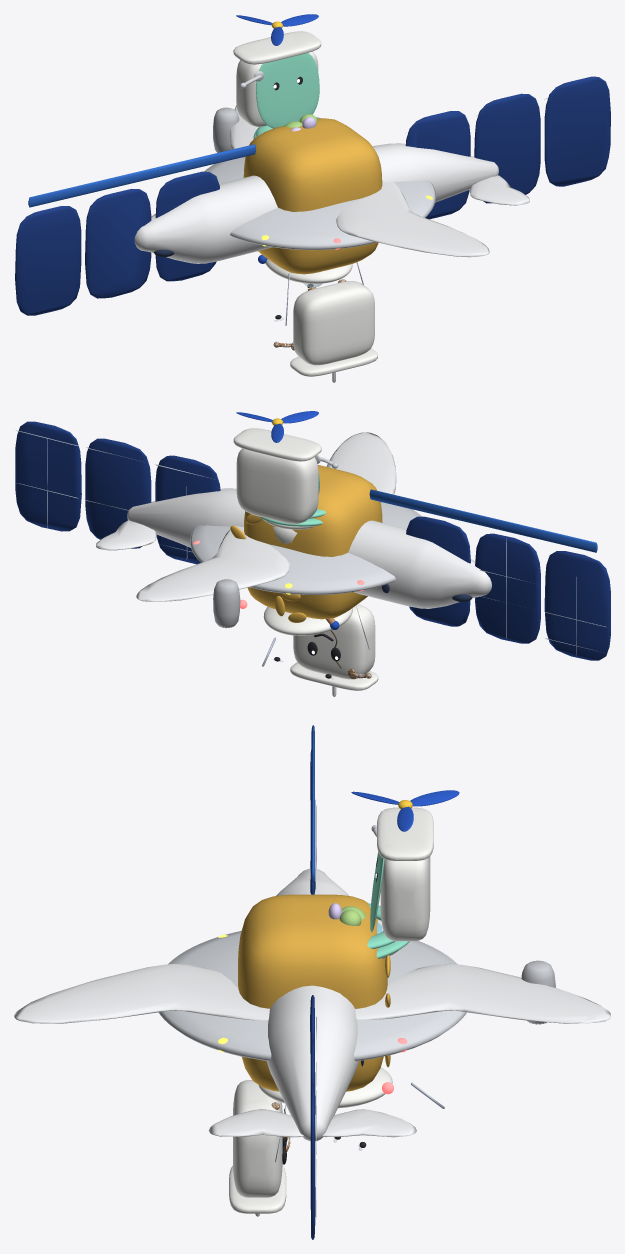
File: cohete_cosas.glb
3 views of the same model, one above another, from view 1: azimuth 30°, elevation 25°; view 2: azimuth 150°, elevation 25°; view 3: azimuth 270°, elevation 25° (orthographic). The views are drawn at different scales.
Parts seen in each view (by area): view 1: panel 12, fuselaje, cuerpo satélite, taza.007, platillo, tapa.008, taza.009, timón, motor 1; view 2: panel 12, fuselaje, cuerpo satélite, taza.009, taza.007, platillo, timón, motor 1, receptor; view 3: fuselaje, cuerpo satélite, platillo, taza.009, taza.007, panel 12, tapa.008, motor 1.
Part boxes in pixels (<box>): panel 12: <box>15,76,610,315</box>; fuselaje: <box>134,105,529,263</box>; cuerpo satélite: <box>243,118,382,274</box>; taza.007: <box>265,258,377,376</box>; platillo: <box>204,157,435,250</box>; tapa.008: <box>256,53,320,136</box>; taza.009: <box>233,31,321,126</box>; timón: <box>28,144,255,207</box>; motor 1: <box>213,107,239,152</box>; panel 12: <box>15,421,610,660</box>; fuselaje: <box>96,432,491,608</box>; cuerpo satélite: <box>230,465,382,622</box>; taza.009: <box>233,428,321,543</box>; taza.007: <box>263,604,378,690</box>; platillo: <box>190,502,421,594</box>; timón: <box>369,489,597,552</box>; motor 1: <box>213,579,240,628</box>; receptor: <box>16,430,606,666</box>; fuselaje: <box>14,868,610,1141</box>; cuerpo satélite: <box>238,894,390,1091</box>; platillo: <box>158,931,466,1061</box>; taza.009: <box>377,807,433,958</box>; taza.007: <box>229,1067,392,1213</box>; panel 12: <box>310,750,315,1239</box>; tapa.008: <box>367,852,394,948</box>; motor 1: <box>521,960,555,1024</box>.
Bounding box in the file's own units: 3.58 × 1.83 × 2.38.
